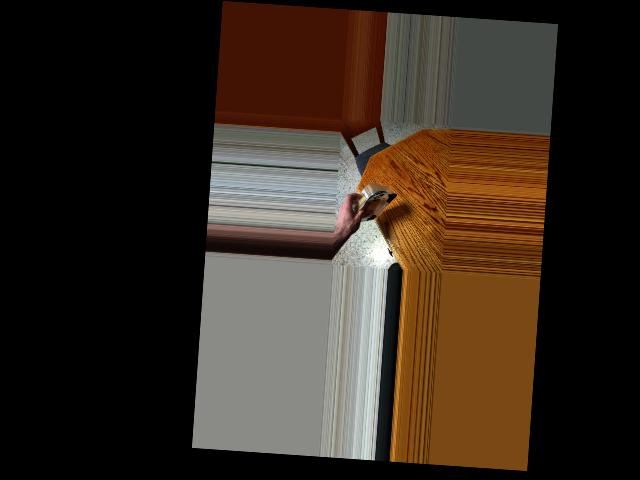cheese: (352, 175, 397, 235)
